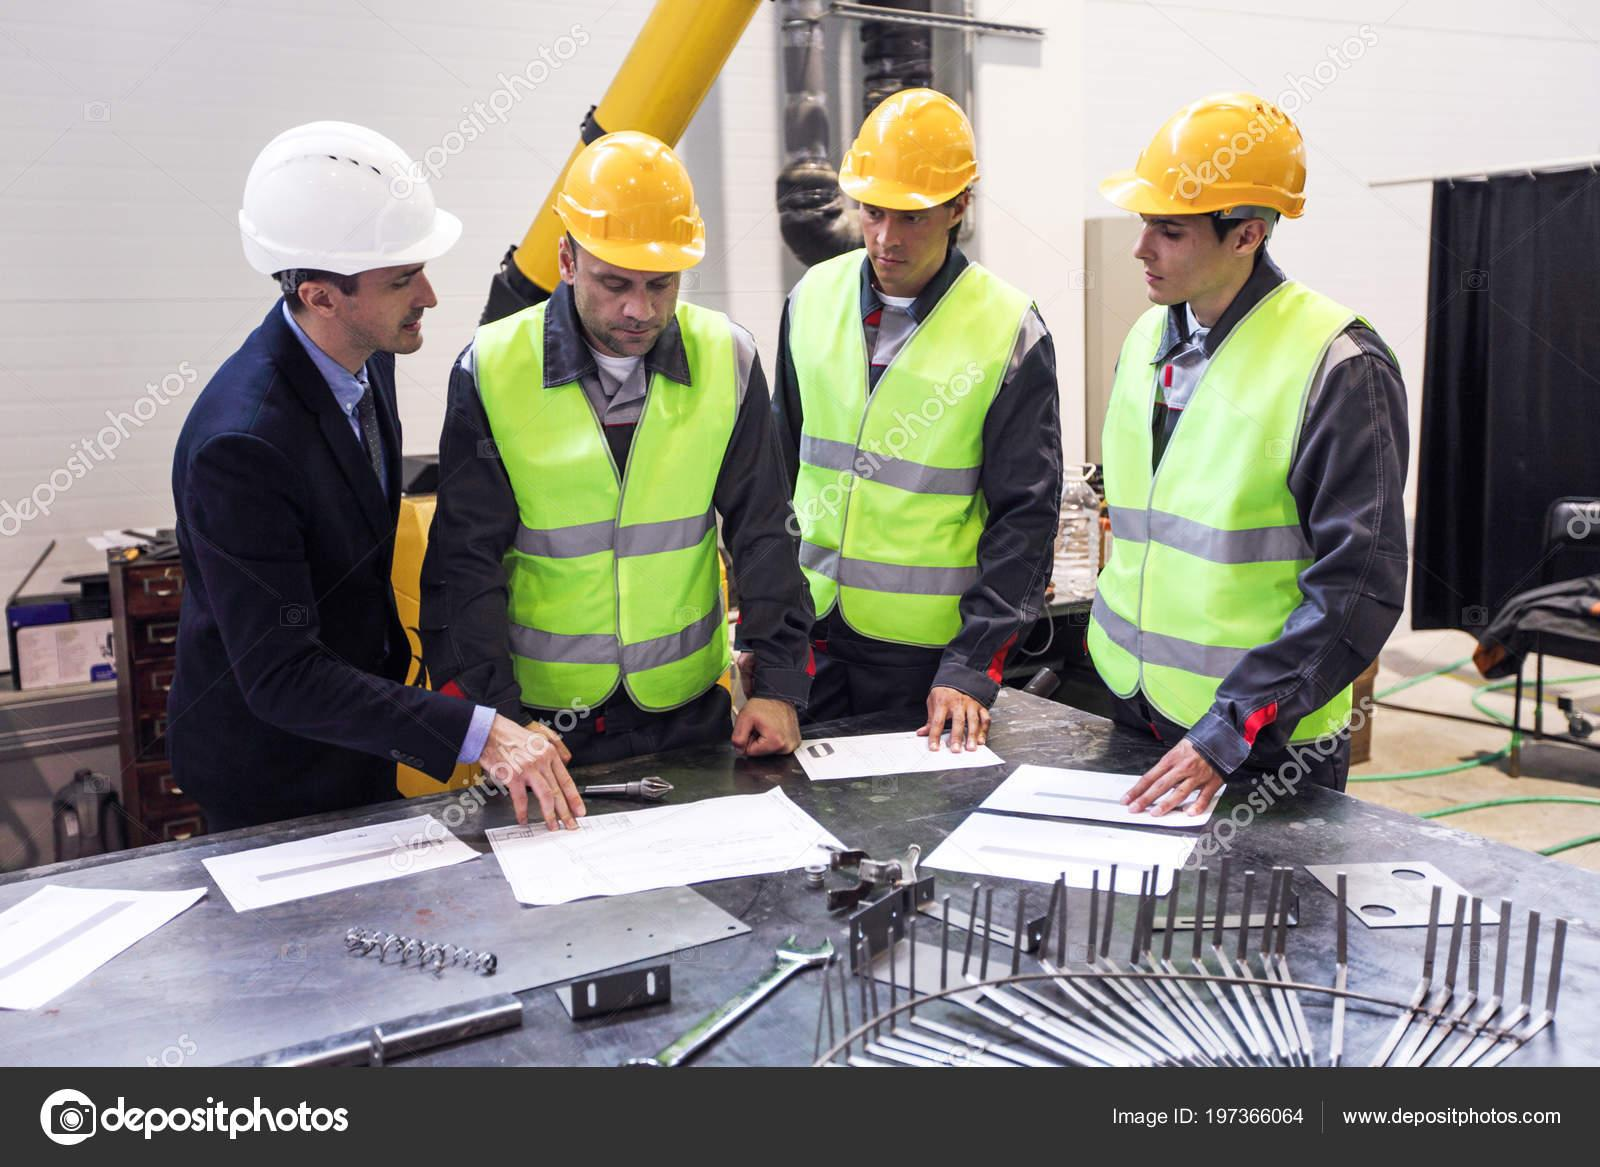helmet: (235, 122, 457, 281), (1108, 92, 1308, 221), (550, 129, 714, 278), (840, 86, 983, 216)
